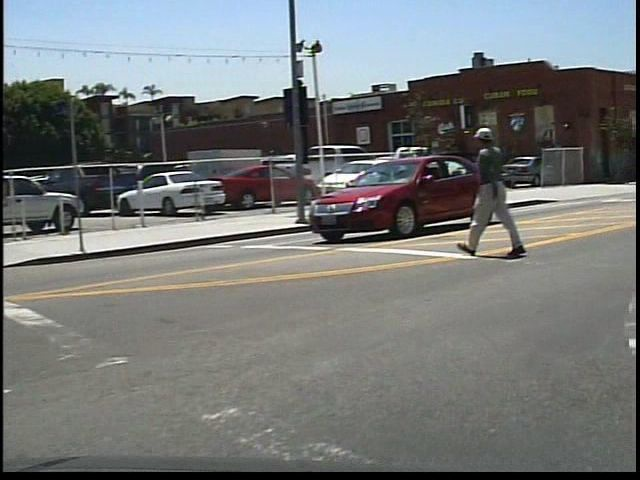person: (471, 115, 534, 266)
